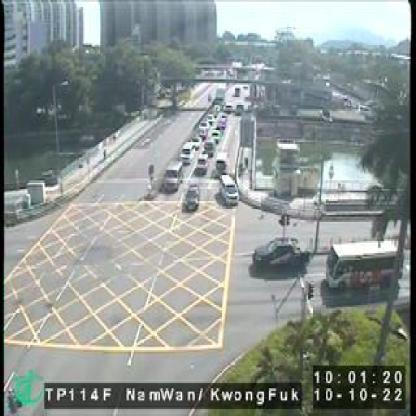Bus: (328, 239, 396, 292)
Car: (252, 238, 301, 271), (162, 162, 182, 194), (221, 175, 239, 204), (182, 184, 200, 210), (181, 142, 194, 162), (194, 156, 206, 177), (196, 122, 209, 140), (215, 159, 226, 176), (205, 140, 216, 157), (213, 128, 222, 140)
